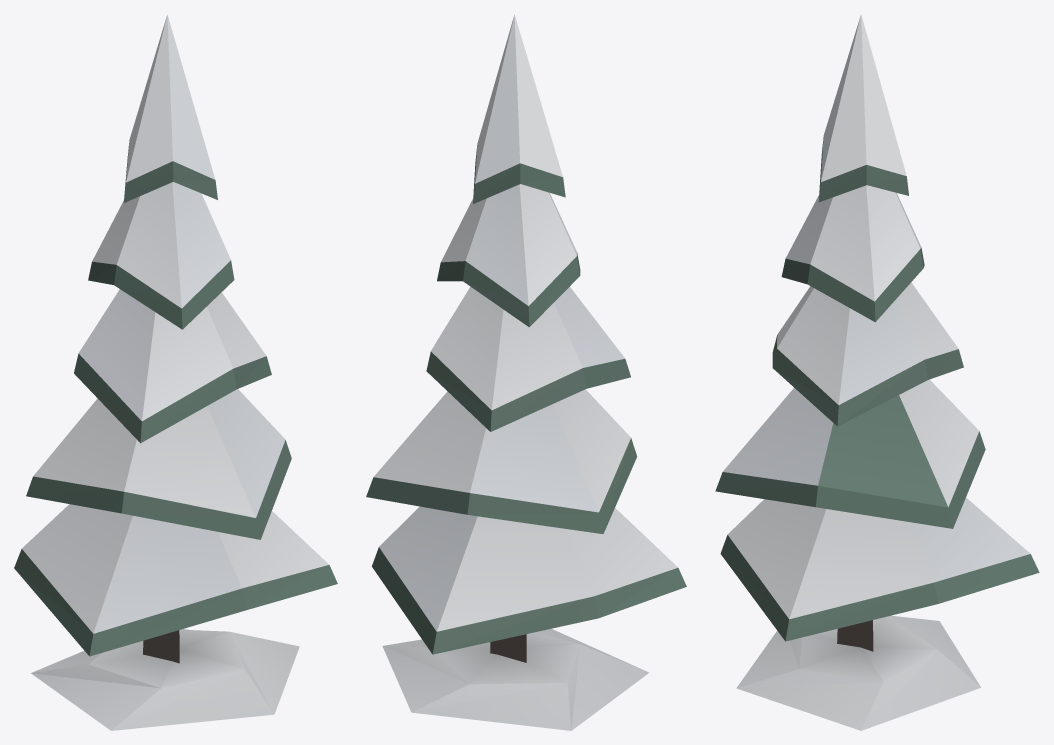
File: spruce.lod2.glb
3 views of the same model, side by side, from view 1: azimuth 30°, elevation 25°; view 2: azimuth 150°, elevation 25°; view 3: azimuth 270°, elevation 25° (orthographic).
Size of the model in its own units: 2.47 by 6.08 by 2.74.
